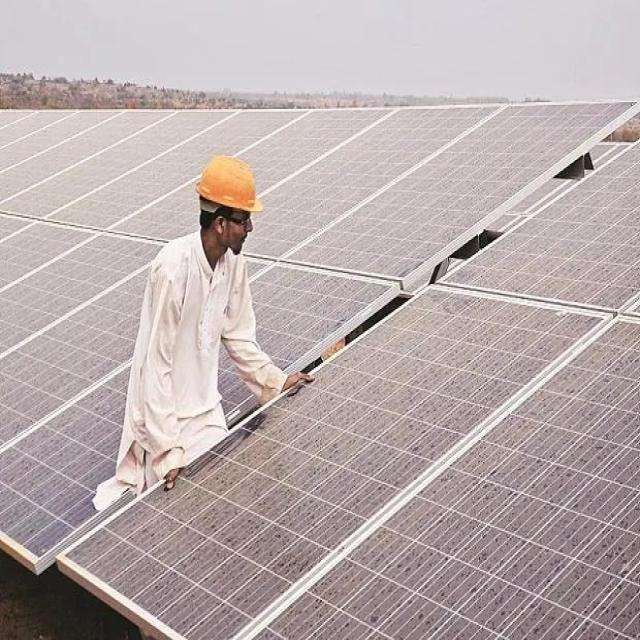dust-solar-panel: (0, 102, 640, 640)
